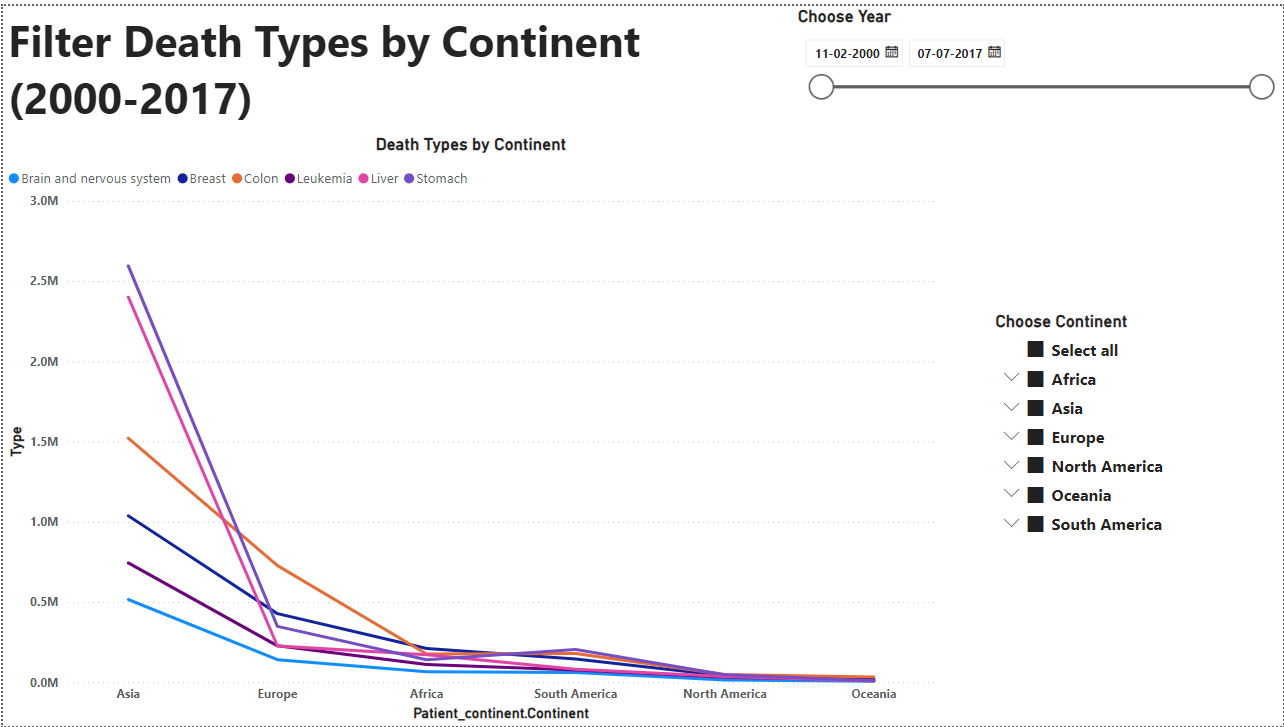

This screenshot's page, from the dashboard's own definition file:
{"tool":"powerbi","page":{"name":"Page 4","canvas":[1280,720],"ordinal":3},"visuals":[{"type":"lineChart","title":"Death Types by Continent","fields":{"Category":["Patient_age.Patient_continent.Continent"],"Y":["Sum(Death_type.Brain and nervous system)","Sum(Death_type.Breast)","Sum(Death_type.Colon)","Sum(Death_type.Leukemia)","Sum(Death_type.Liver)","Sum(Death_type.Stomach)"]},"box":[0,127.6,935.9,592.8],"z":0},{"type":"slicer","title":"Choose Continent","fields":{"Values":["Patient_continent.Continent","Patient_continent.Country"]},"box":[988,304.6,236,241.5],"z":1000},{"type":"slicer","title":"Choose Year","fields":{"Values":["Death_type.Year"]},"box":[790.4,0,489.9,127.6],"z":2000},{"type":"textbox","box":[0,0,790.4,127.6],"z":3000}]}

Visuals, with their boxes in screenshot pixels (x1, y1, x2, y2), scaled from the page's 1280x720 canvas onto the 1284x727 screenshot:
"Death Types by Continent" lineChart: bbox(0, 129, 939, 726)
"Choose Continent" slicer: bbox(991, 308, 1228, 551)
"Choose Year" slicer: bbox(793, 0, 1283, 129)
textbox: bbox(0, 0, 793, 129)
